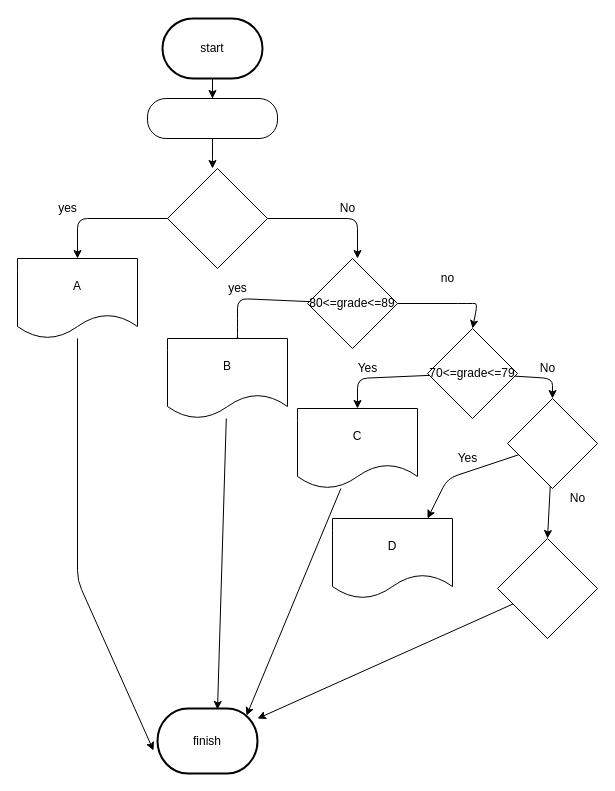
Some shapes in this 615 by 791 pixel diagram are drawn without their labels. Here are the shapes that lost their labels. From the top down, the box of each, then its label:
(146, 98, 278, 138): grade
(166, 168, 268, 268): 90<=grade<=100
(506, 398, 598, 488): 60<=grade<=69
(496, 538, 598, 638): else
